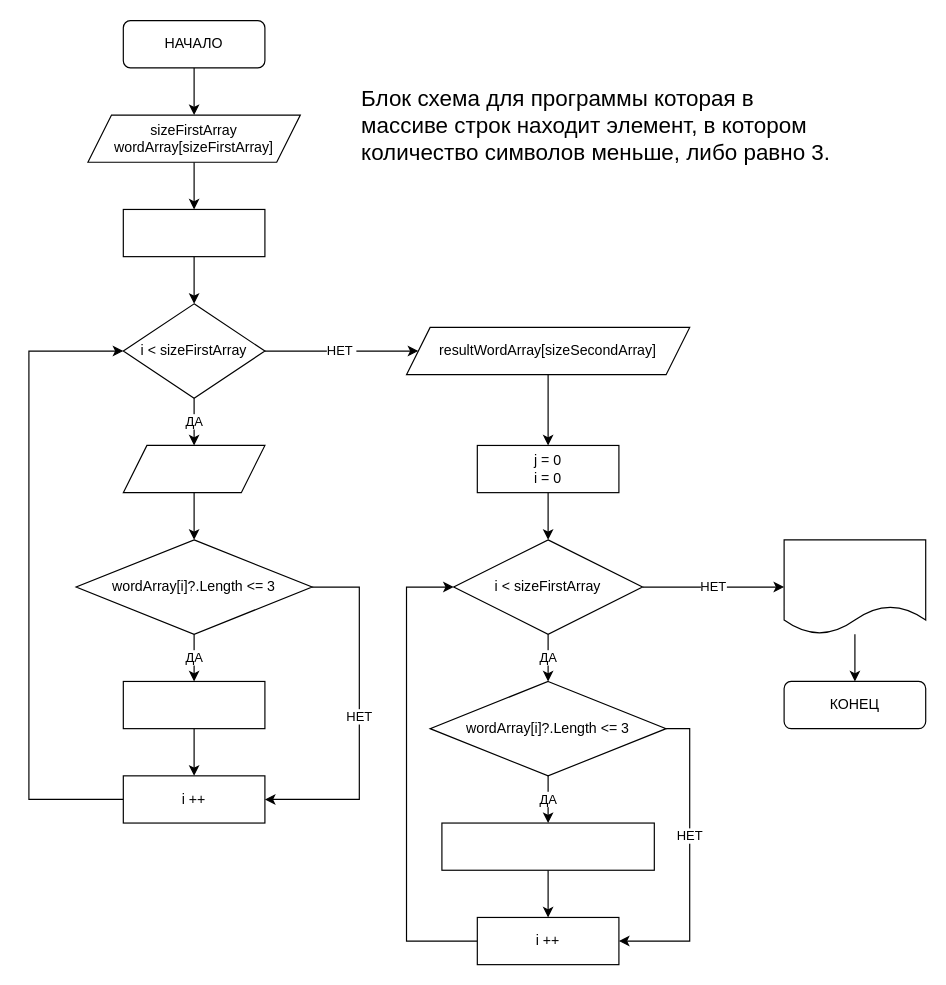
Some shapes in this 946 by 985 pixel diagram are drawn without their labels. The centre of each missing label's shape, as x and y in pixels:
"resultWordArray" goes at [854,586].
"resultWordArray[j] = wordArray[i] j ++" goes at [547,846].
"sizeSecondArray ++" goes at [193,704].
"sizeSecondArray = 0 i = 0" goes at [193,232].
"wordArray[i]" goes at [193,468].
